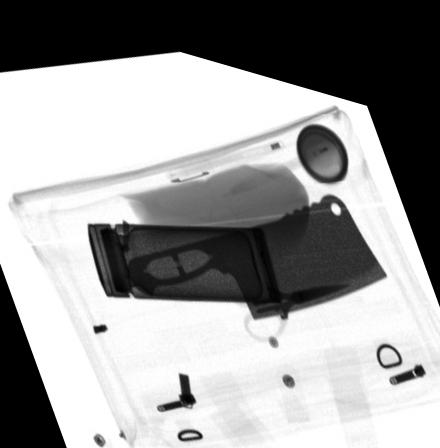Knife: (125, 174, 387, 304)
Scissors: (224, 257, 348, 324)
